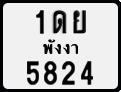letters: (25, 58, 40, 87), (79, 59, 94, 86), (72, 9, 88, 34), (43, 60, 58, 86), (52, 10, 67, 34), (61, 61, 76, 85), (34, 9, 45, 35)
province: (41, 38, 81, 56)
